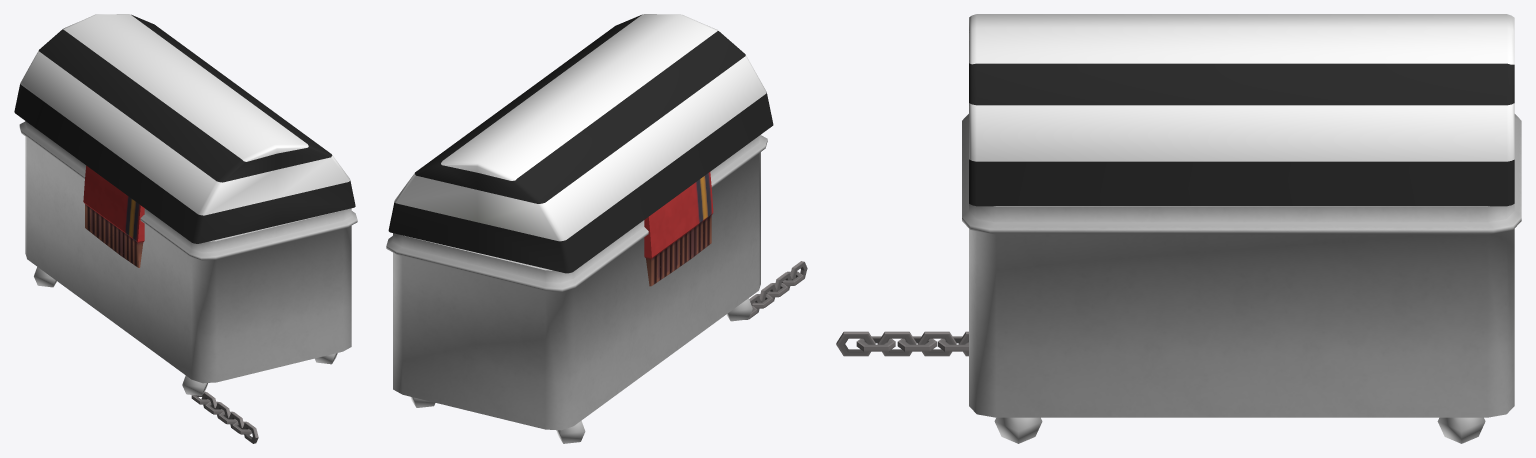
Rendered from chest.fbx.
3 renders of one model, left to right at view 1: azimuth 30°, elevation 25°; view 2: azimuth 150°, elevation 25°; view 3: azimuth 270°, elevation 25°, orthographic. The views are drawn at different scales.
Visible parts, largest first — view 1: chest1, chest; view 2: chest1, chest; view 3: chest1, chest.
Boxes of the visible parts, left/top/right/bottom form: chest1: left=19, top=121, right=357, bottom=443; chest: left=14, top=14, right=355, bottom=243; chest1: left=386, top=135, right=807, bottom=443; chest: left=388, top=14, right=773, bottom=273; chest1: left=836, top=114, right=1521, bottom=443; chest: left=969, top=14, right=1514, bottom=206.
Size of the model in its own units: 107 by 151 by 251.
